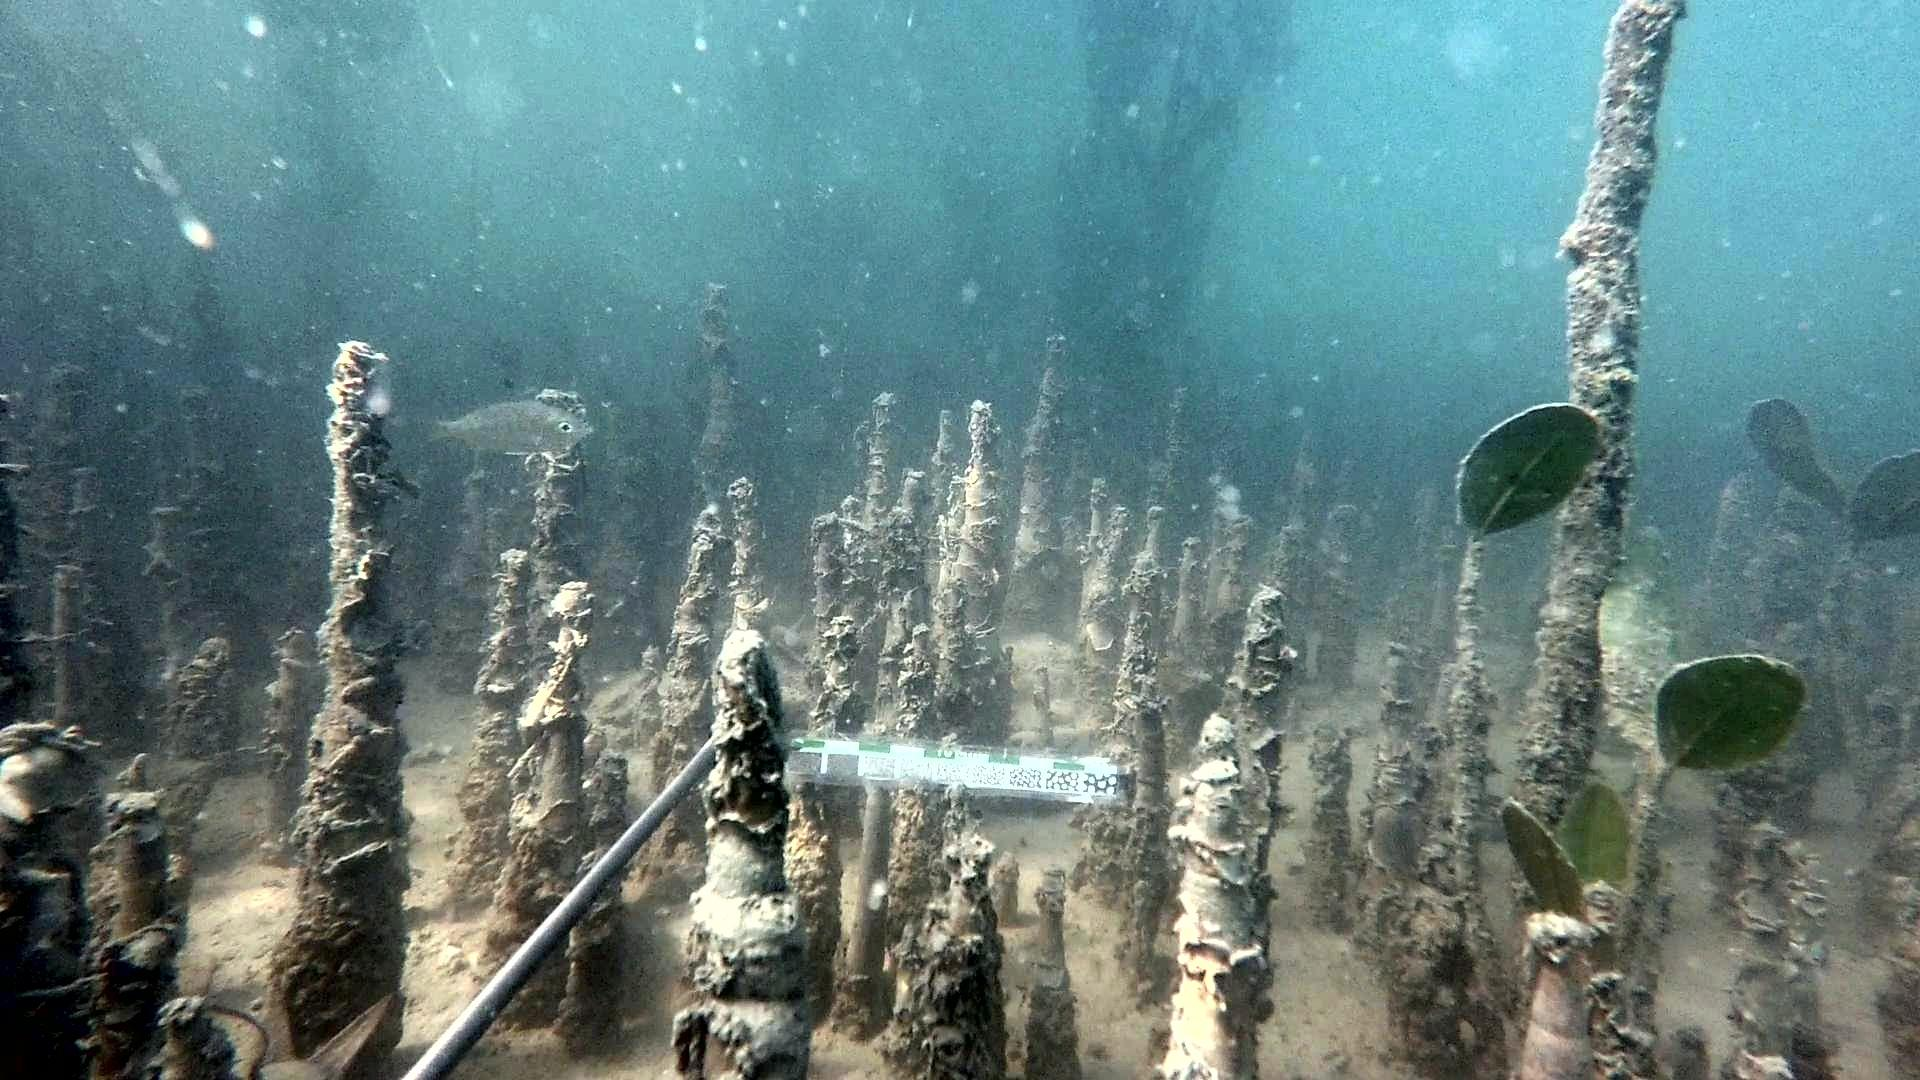gerres: (413, 376, 594, 461)
